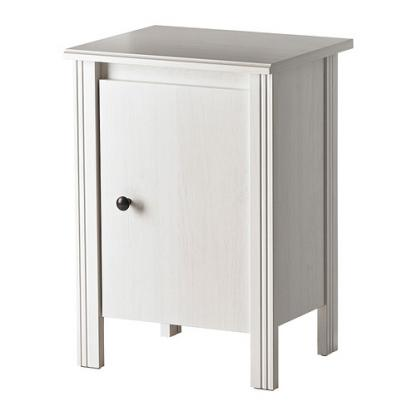Table: (58, 21, 364, 396)
